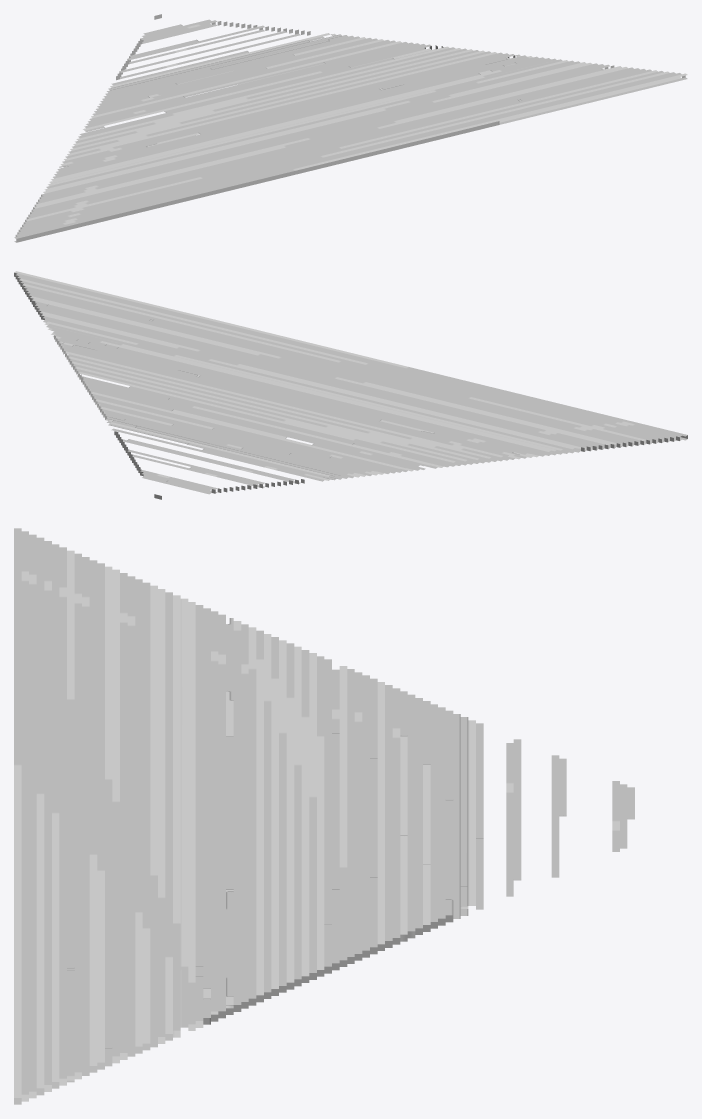
The model's file is Ceiling.obj.
The picture shows the model from 3 angles, top to bottom: view 1: azimuth 30°, elevation 25°; view 2: azimuth 150°, elevation 25°; view 3: azimuth 270°, elevation 25°; orthographic projection. The views are drawn at different scales.
Bounding box in the file's own units: 178 × 1 × 89.
